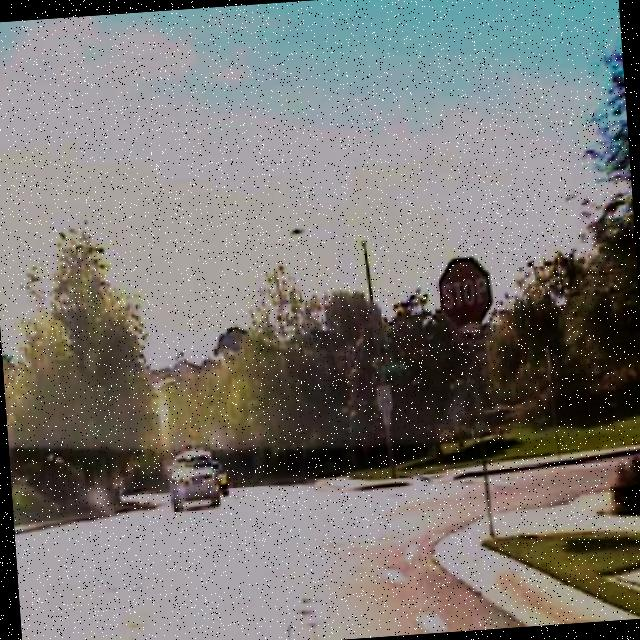Stop: (434, 254, 494, 328)
